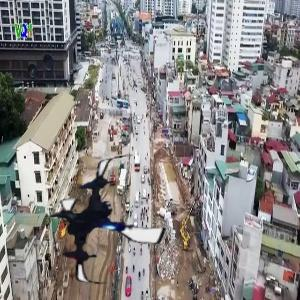drone: (42, 153, 178, 289)
